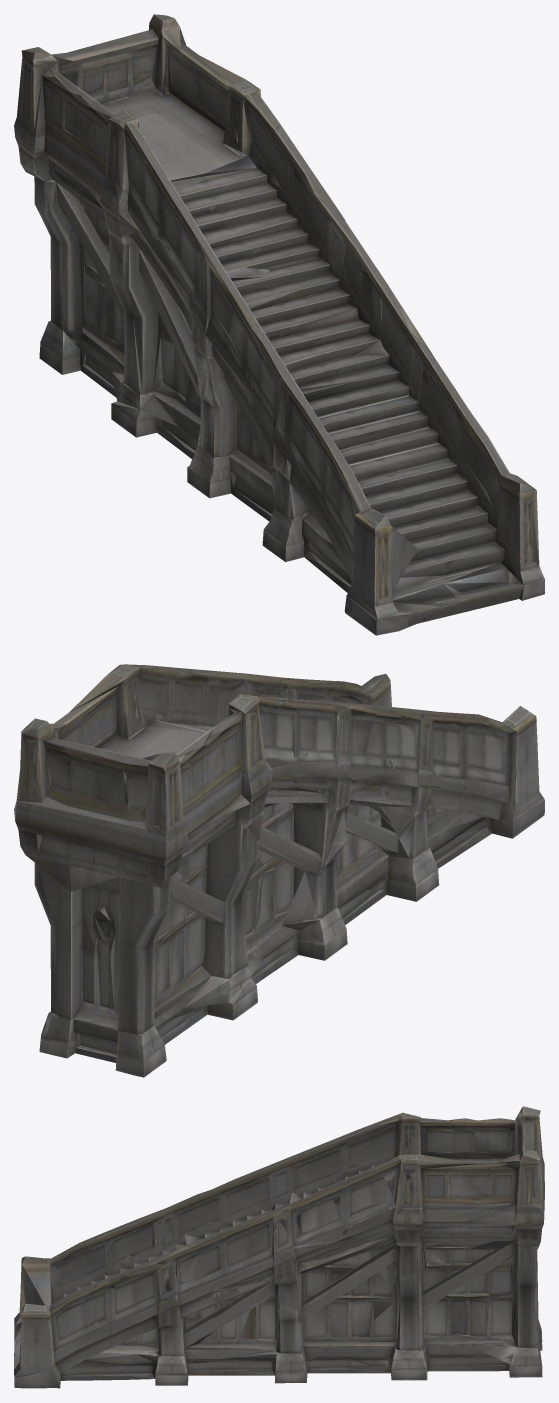
The model's file is imperial_city_wall_stair_lod1.glb.
3 views of the same model, one above another, from view 1: azimuth 30°, elevation 25°; view 2: azimuth 150°, elevation 25°; view 3: azimuth 270°, elevation 25° (orthographic). The views are drawn at different scales.
Parts seen in each view (by area): view 1: mesh_node; view 2: mesh_node; view 3: mesh_node.
Boxes of the visible parts, x1,y1,x2,y2 form: mesh_node: (14,14,544,635); mesh_node: (14,664,544,1077); mesh_node: (14,1106,544,1388).
Size of the model in its own units: 3.35 by 6.1 by 12.8.
1 material, 1 textured.
